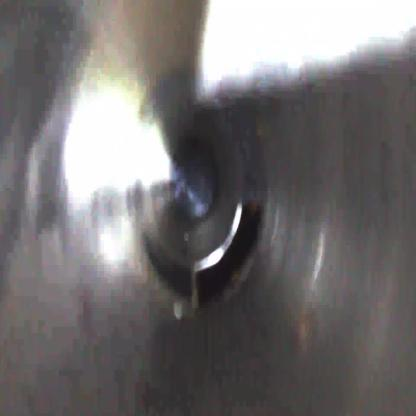Crack2: (190, 199, 269, 317)
